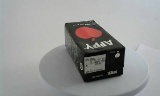appy: (60, 19, 118, 82)
